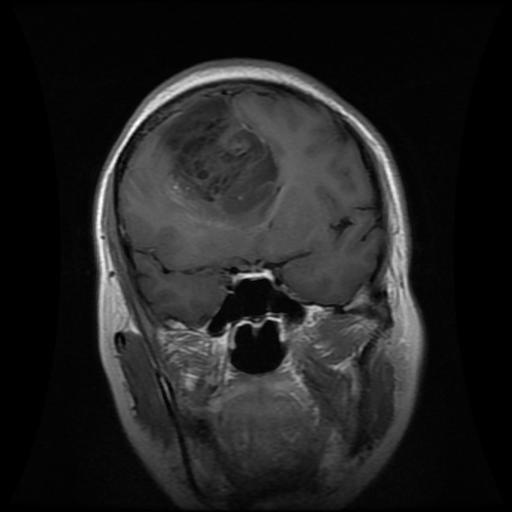Gliomia_tumour: (155, 95, 283, 226)
